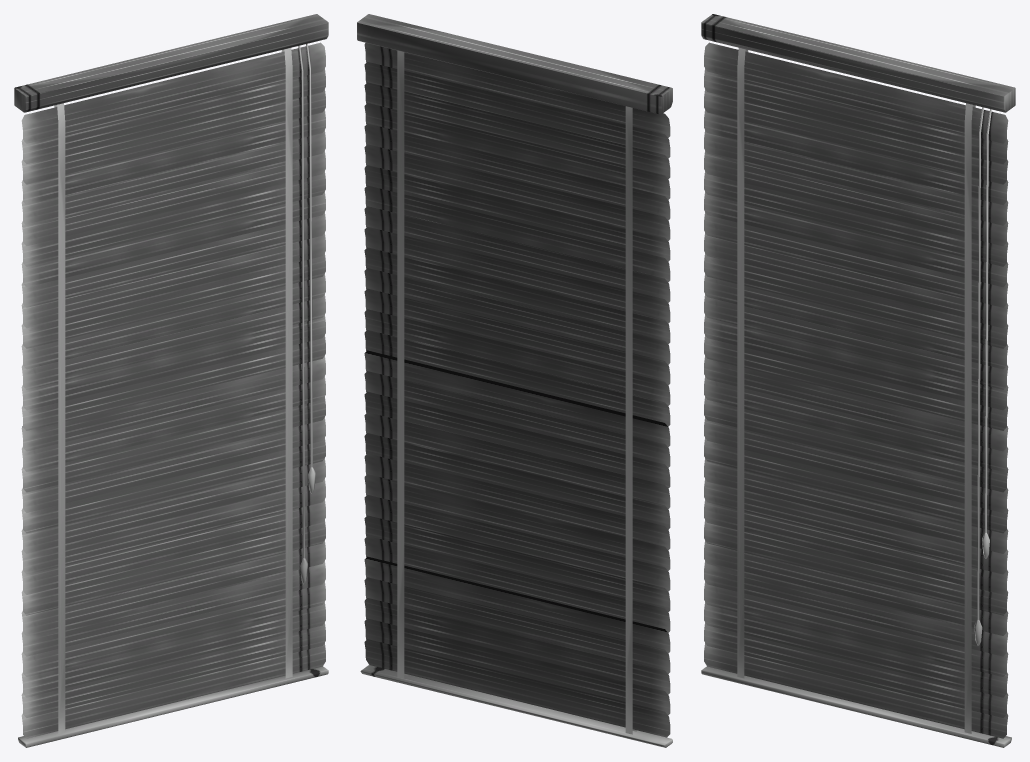
Rendered from Persiana2_H2.obj.
3 renders of one model, left to right at view 1: azimuth 30°, elevation 25°; view 2: azimuth 150°, elevation 25°; view 3: azimuth 330°, elevation 25°, orthographic.
Parts seen in each view (by area): view 1: Persiana2_H2; view 2: Persiana2_H2; view 3: Persiana2_H2.
Boxes of the visible parts, x1,y1,x2,y2 form: Persiana2_H2: [14, 14, 328, 747]; Persiana2_H2: [357, 14, 672, 747]; Persiana2_H2: [701, 14, 1015, 747].
Bounding box in the file's own units: 0.5776 × 1.19 × 0.0487.
1 material, 1 textured.
